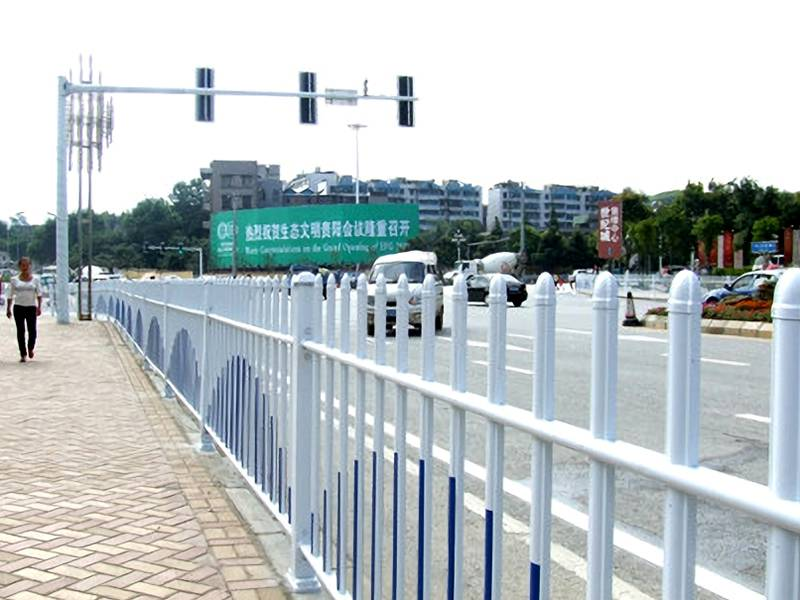Fence: (87, 269, 800, 600)
Person: (4, 257, 50, 367)
